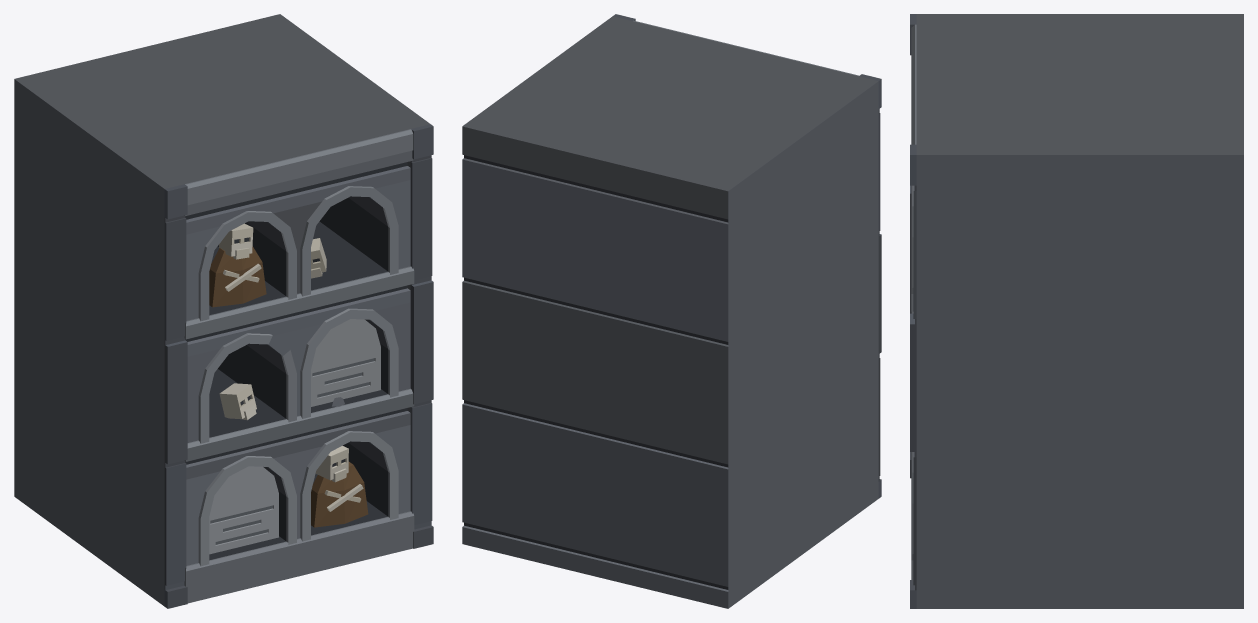
Rendered from burial-niche-wall-1b937f.glb.
3 views of the same model, side by side, from view 1: azimuth 30°, elevation 25°; view 2: azimuth 150°, elevation 25°; view 3: azimuth 270°, elevation 25° (orthographic). The views are drawn at different scales.
Parts seen in each view (by area): view 1: wall, plates; view 2: wall; view 3: wall.
Boxes of the visible parts, x1=… form: wall: x1=14, y1=14, x2=433, y2=608; plates: x1=209, y1=319, x2=380, y2=554; wall: x1=462, y1=14, x2=881, y2=608; wall: x1=910, y1=14, x2=1243, y2=608.
Size of the model in its own units: 2 by 3 by 2.
